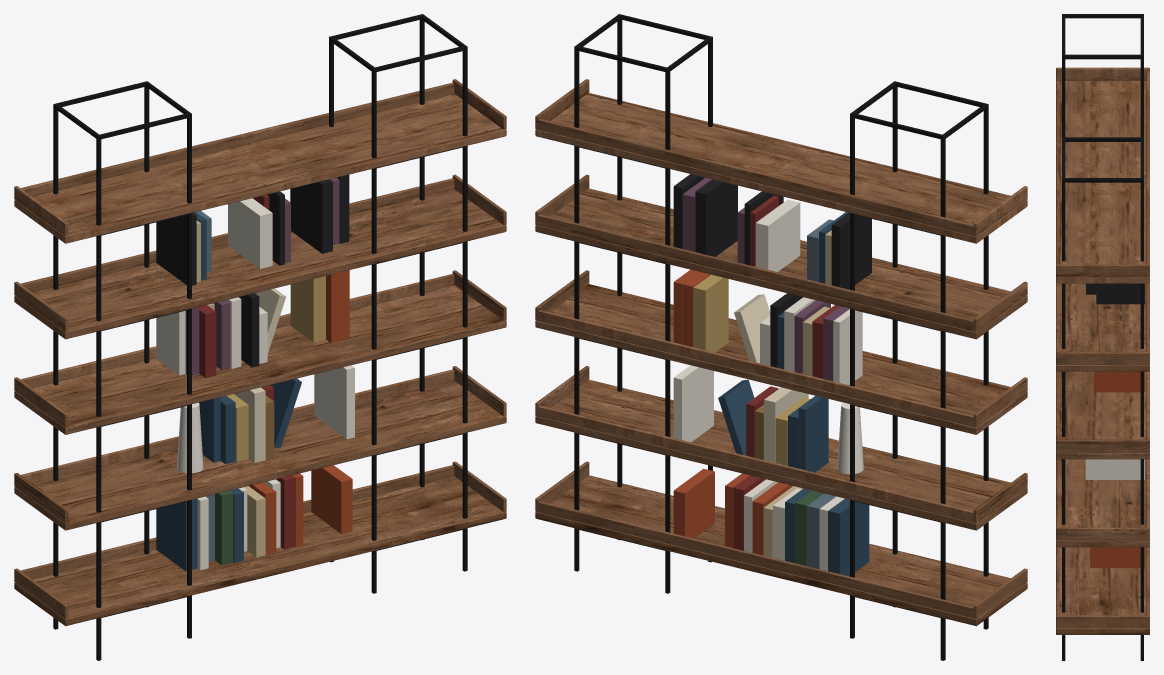
Rendered from shelf-seatle.glb.
3 renders of one model, left to right at view 1: azimuth 30°, elevation 25°; view 2: azimuth 150°, elevation 25°; view 3: azimuth 270°, elevation 25°, orthographic. The views are drawn at different scales.
Visible parts, largest first — view 1: object 2, decor (×12), object 1; view 2: object 2, decor (×12), object 1; view 3: object 2, object 1, decor (×3).
Boxes of the visible parts, x1=… form: object 2: x1=14, y1=79, x2=506, y2=626; decor (×12): x1=156, y1=174, x2=354, y2=571; object 1: x1=53, y1=14, x2=467, y2=660; object 2: x1=535, y1=79, x2=1027, y2=626; decor (×12): x1=673, y1=174, x2=871, y2=576; object 1: x1=574, y1=14, x2=988, y2=660; object 2: x1=1056, y1=67, x2=1149, y2=634; object 1: x1=1062, y1=14, x2=1143, y2=660; decor (×3): x1=1085, y1=283, x2=1144, y2=567.
Bounding box in the file's own units: 1.59 × 1.81 × 0.3199.
15 materials, 1 textured.
